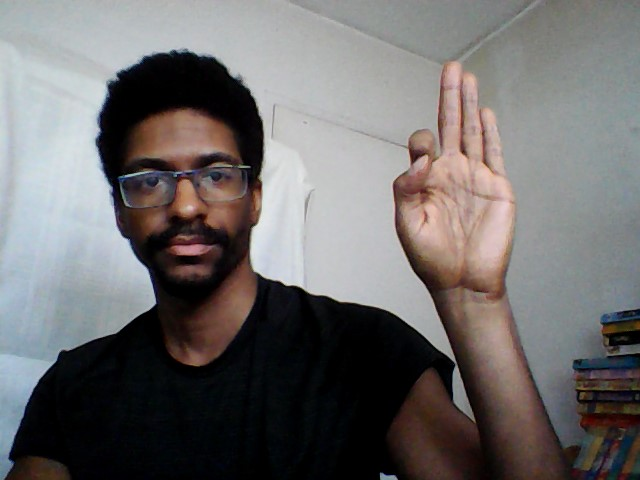f: (390, 55, 523, 297)
